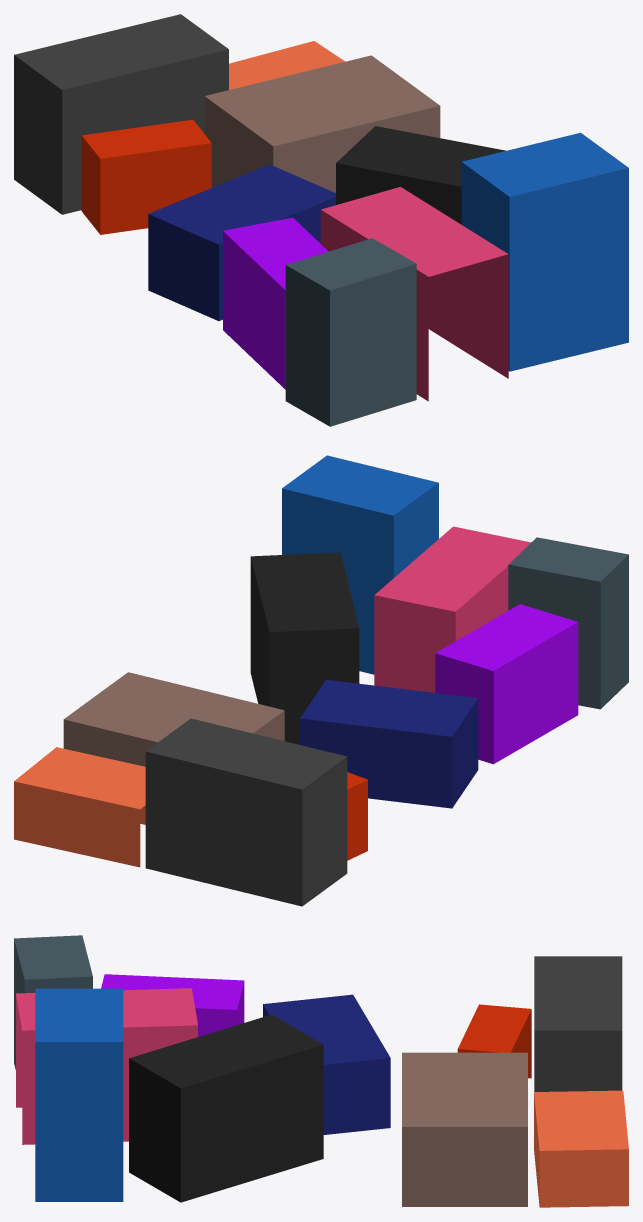
Rendered from Luggage_Pile_3.fbx.
The picture shows the model from 3 angles, top to bottom: view 1: azimuth 30°, elevation 25°; view 2: azimuth 150°, elevation 25°; view 3: azimuth 270°, elevation 25°; orthographic projection. The views are drawn at different scales.
Visible parts, largest first — view 1: Luggage_Pile_3; view 2: Luggage_Pile_3; view 3: Luggage_Pile_3.
Boxes of the visible parts, left/top/right/bottom form: Luggage_Pile_3: left=14, top=14, right=628, bottom=426; Luggage_Pile_3: left=14, top=455, right=628, bottom=906; Luggage_Pile_3: left=14, top=935, right=628, bottom=1207.
Size of the model in its own units: 139 by 70 by 244.
1 material, 1 textured.
